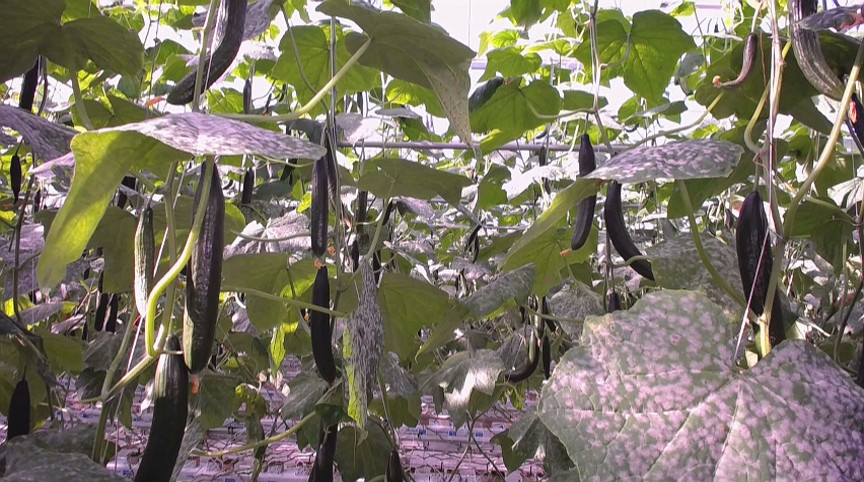cucumber: (185, 163, 227, 371), (167, 1, 245, 104), (135, 338, 187, 482), (792, 1, 848, 102), (738, 191, 780, 318), (607, 179, 656, 281), (569, 136, 595, 251), (311, 268, 337, 381), (134, 206, 155, 317), (720, 31, 759, 88), (312, 157, 329, 257), (5, 380, 31, 438)
